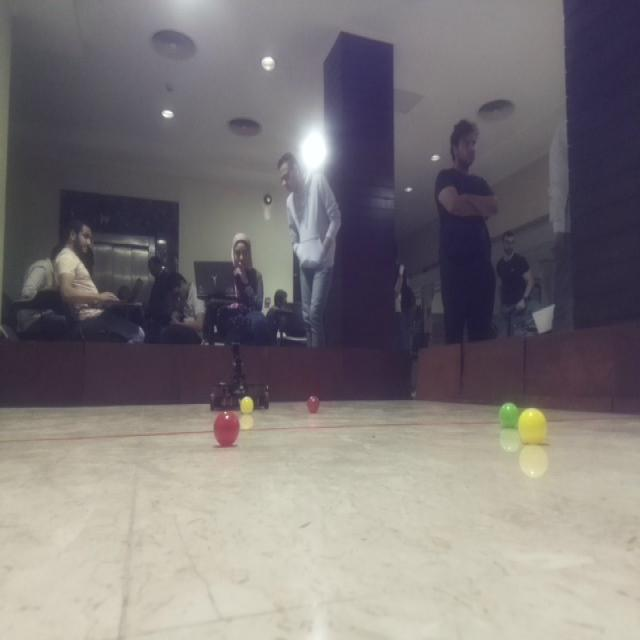ball: (212, 406, 241, 451), (519, 406, 548, 446), (497, 398, 520, 432), (303, 390, 322, 415), (236, 393, 257, 415)
